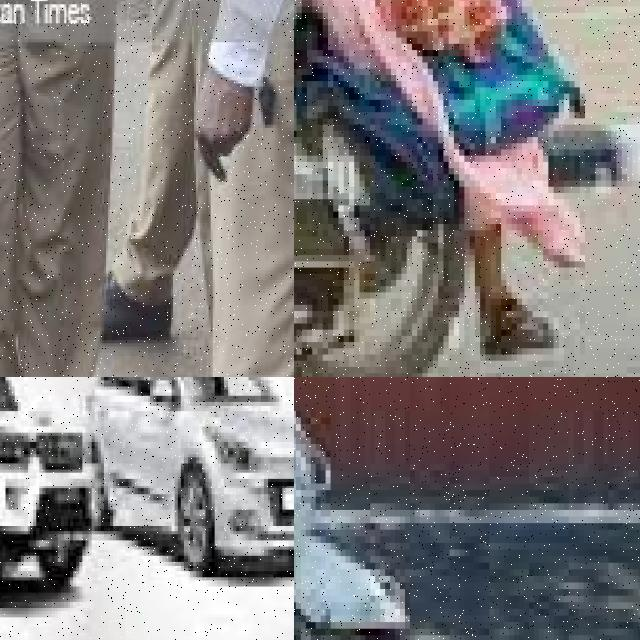bike: (294, 0, 506, 377), (294, 377, 430, 640)
car: (76, 377, 294, 605), (0, 377, 91, 640)
